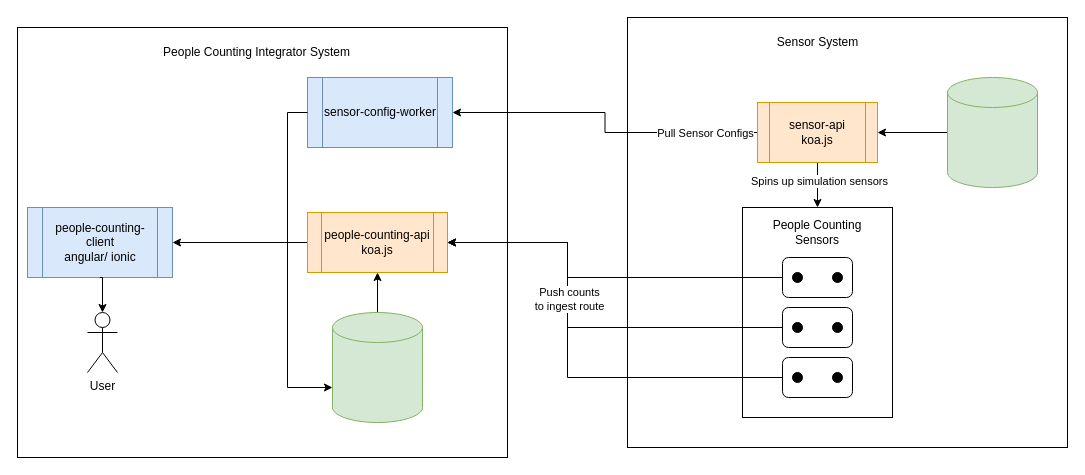
Image size: 1085x475. Some labels were removed from this diagram. The centre of each missing label's shape, as x and y in pixels:
"People Counting DB (PostgreSQL)" belongs at pixel 377 367.
"Sensor DB (PostgreSQL)" belongs at pixel 992 132.
